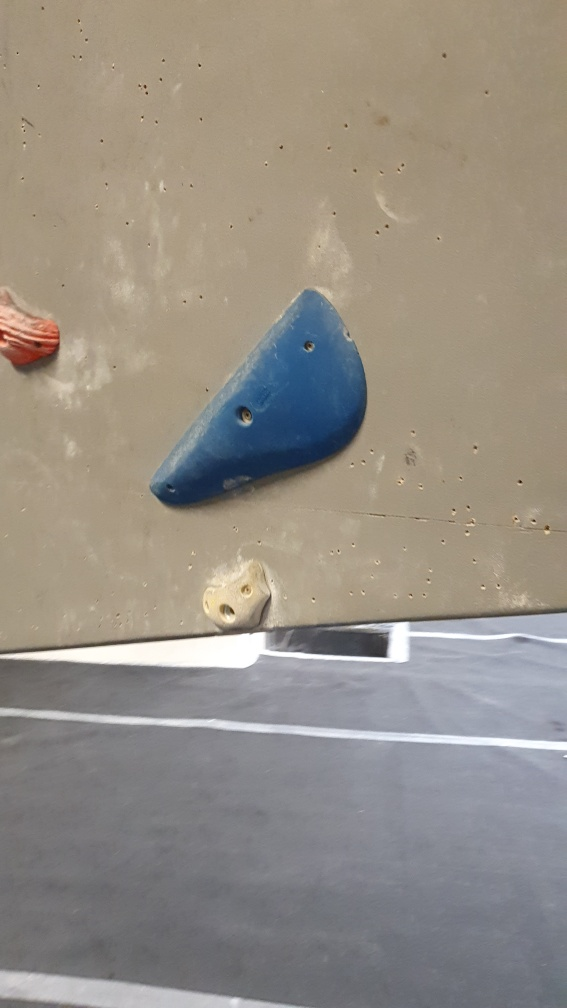Jug: (1, 282, 64, 376)
